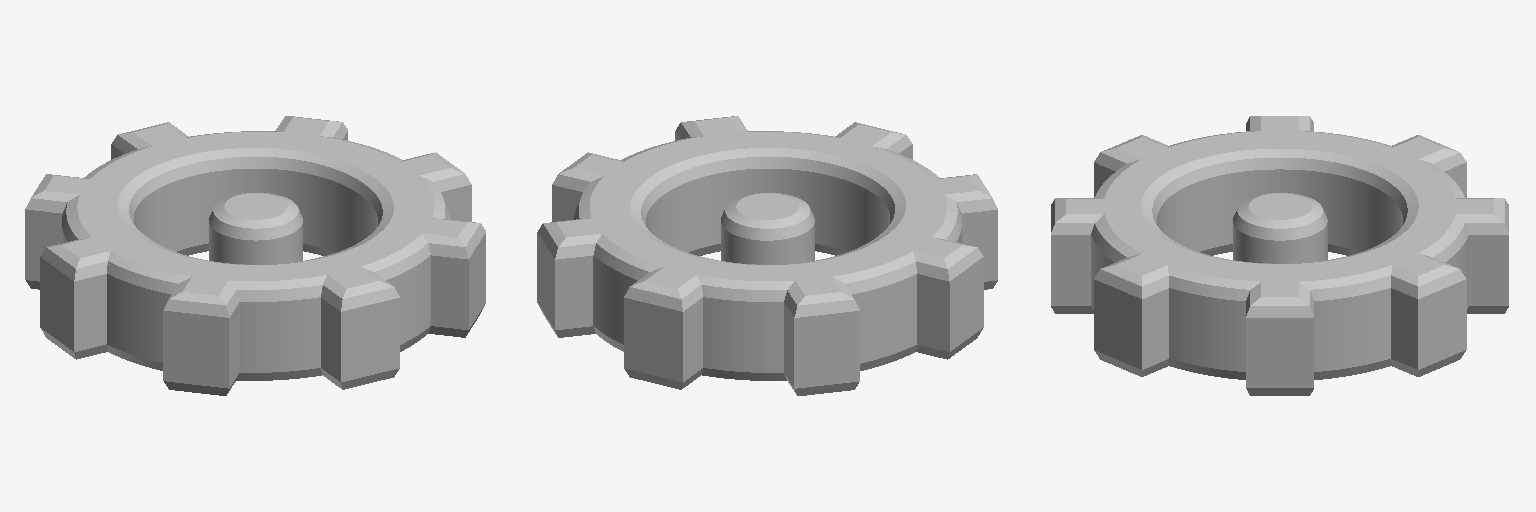
The model's file is gear.obj.
3 renders of one model, left to right at view 1: azimuth 30°, elevation 25°; view 2: azimuth 150°, elevation 25°; view 3: azimuth 270°, elevation 25°, orthographic.
Parts seen in each view (by area): view 1: A_Text; view 2: A_Text; view 3: A_Text.
Part boxes in pixels (x1,y1,x2,y2): A_Text: (25, 116, 485, 395); A_Text: (537, 116, 997, 395); A_Text: (1051, 116, 1508, 395).
Size of the model in its own units: 0.5882 by 0.14 by 0.5882.